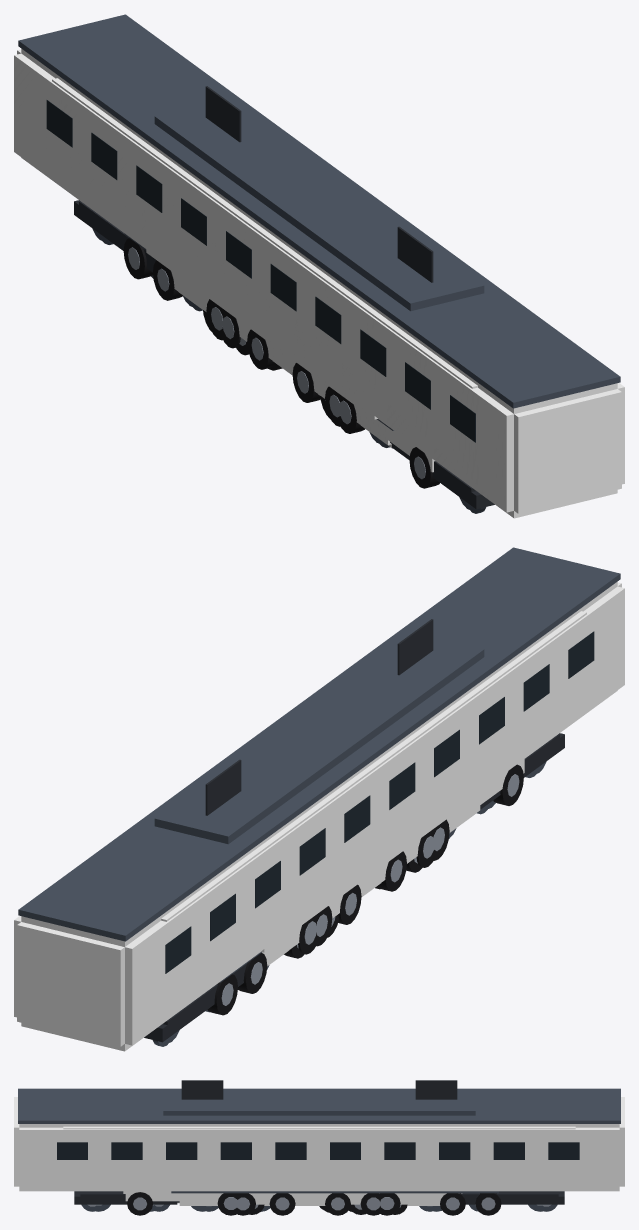
File: vehicles.glb
3 views of the same model, one above another, from view 1: azimuth 30°, elevation 25°; view 2: azimuth 150°, elevation 25°; view 3: azimuth 270°, elevation 25° (orthographic). The views are drawn at different scales.
Parts seen in each view (by area): view 1: coach_body, coach_detail, loco_detail, wagon_body, heavy_detail, loco_body, bus_body, bus_detail; view 2: coach_body, coach_detail, loco_detail, wagon_body, heavy_detail, loco_body, bus_body, bus_detail; view 3: coach_body, coach_detail, wagon_body, loco_detail, heavy_detail, loco_body, bus_body, bus_detail, heavy_body, truck_detail.
Boxes of the visible parts, x1,y1,x2,y2 form: coach_body: [14, 48, 624, 518]; coach_detail: [18, 14, 620, 513]; loco_detail: [79, 86, 484, 510]; wagon_body: [146, 169, 377, 419]; heavy_detail: [123, 233, 439, 488]; loco_body: [52, 78, 480, 491]; bus_body: [171, 271, 392, 448]; bus_detail: [206, 299, 364, 433]; coach_body: [14, 581, 624, 1051]; coach_detail: [18, 547, 620, 1046]; loco_detail: [154, 619, 559, 1042]; wagon_body: [261, 698, 492, 952]; heavy_detail: [207, 764, 523, 1015]; loco_body: [161, 611, 586, 1016]; bus_body: [262, 795, 480, 966]; bus_detail: [298, 819, 449, 954]; coach_body: [14, 1097, 624, 1191]; coach_detail: [18, 1088, 620, 1211]; wagon_body: [180, 1137, 458, 1191]; loco_detail: [80, 1080, 558, 1211]; heavy_detail: [127, 1191, 501, 1215]; loco_body: [63, 1125, 575, 1189]; bus_body: [177, 1193, 462, 1205]; bus_detail: [217, 1193, 400, 1215]; heavy_body: [123, 1191, 179, 1201]; truck_detail: [249, 1204, 407, 1214].
Bounding box in the file's own units: 3.22 × 5.15 × 23.5.
